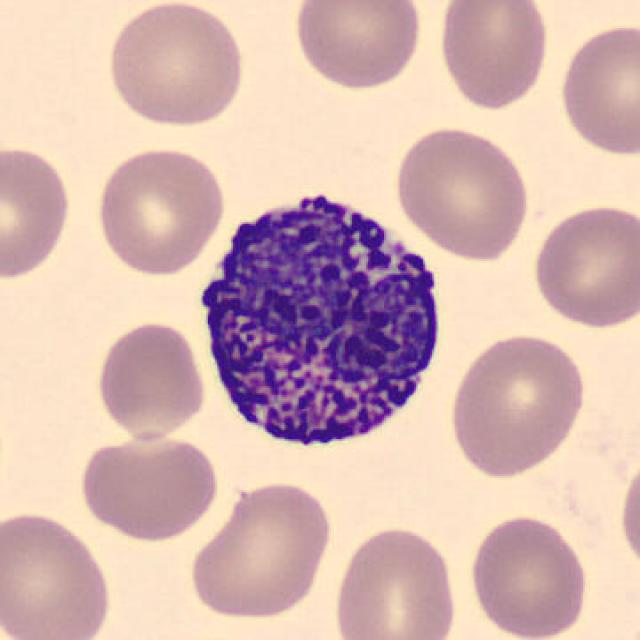Basophil: (187, 173, 455, 465)
RBC: (185, 476, 338, 622), (444, 328, 590, 479), (391, 121, 533, 262), (101, 0, 248, 130), (93, 143, 230, 277), (75, 430, 222, 543), (464, 511, 592, 640), (329, 522, 462, 640), (0, 506, 117, 640), (92, 317, 210, 441), (528, 200, 636, 332), (434, 0, 553, 113), (288, 0, 425, 92), (555, 19, 638, 159), (0, 141, 75, 284), (615, 448, 640, 582)
